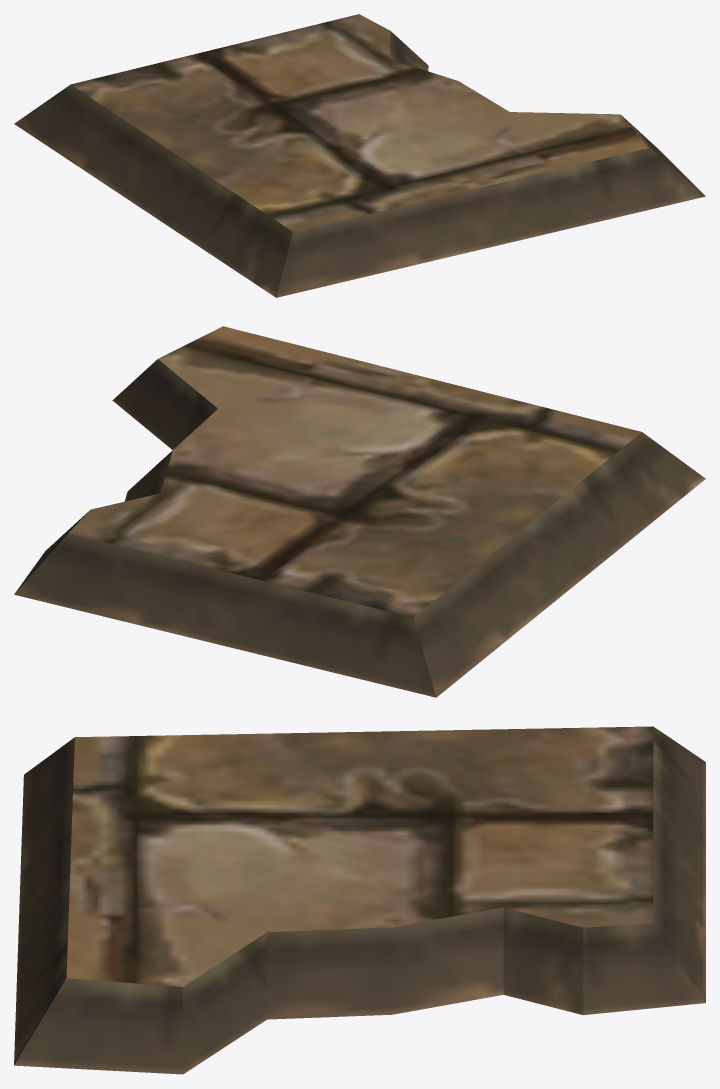
The model's file is A_dizhuan_006.fbx.
The picture shows the model from 3 angles, top to bottom: view 1: azimuth 30°, elevation 25°; view 2: azimuth 150°, elevation 25°; view 3: azimuth 270°, elevation 25°; orthographic projection. The views are drawn at different scales.
Visible parts, largest first — view 1: A_dizhuan_006; view 2: A_dizhuan_006; view 3: A_dizhuan_006.
Part boxes in pixels (x1,y1,x2,y2): A_dizhuan_006: (14,14,705,297); A_dizhuan_006: (14,326,705,697); A_dizhuan_006: (14,726,705,1074).
Size of the model in its own units: 45.73 by 4.2 by 42.81.
